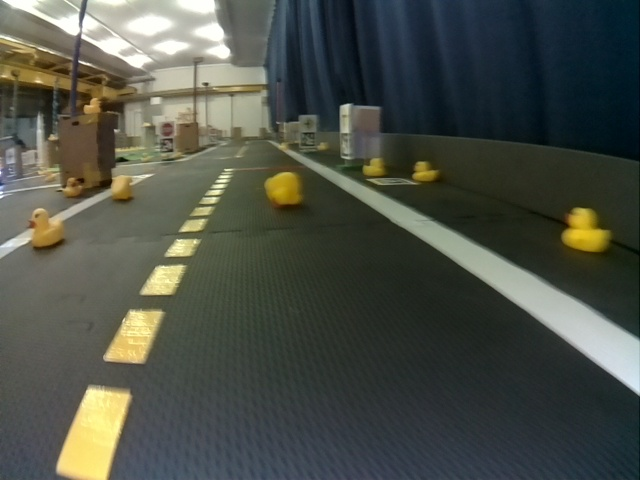Duckie: (562, 207, 610, 253), (264, 171, 302, 206), (28, 209, 61, 247), (414, 161, 438, 181), (111, 176, 130, 199), (362, 158, 386, 174), (64, 178, 82, 197), (83, 99, 101, 113), (318, 142, 327, 151)
Intersection sign: (339, 107, 349, 129), (303, 117, 315, 128)
QR code: (367, 177, 416, 187), (341, 133, 352, 158), (300, 131, 315, 147), (159, 138, 174, 153)
Stop sign: (160, 123, 174, 136)
